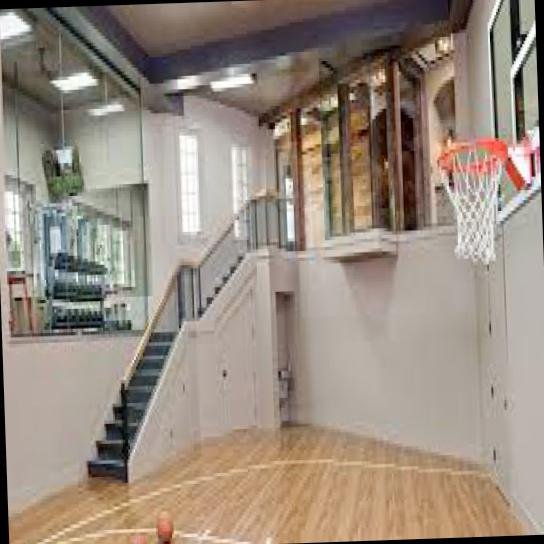basketball-hoop: (435, 134, 512, 272)
